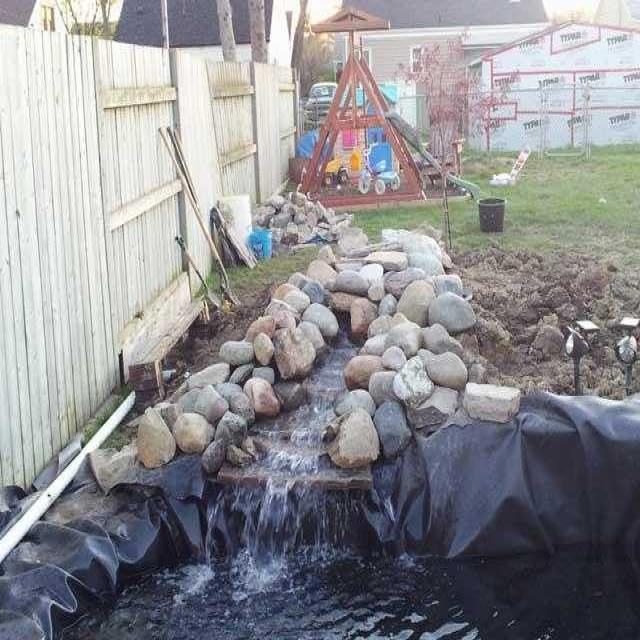Ponds: (30, 289, 639, 639)
